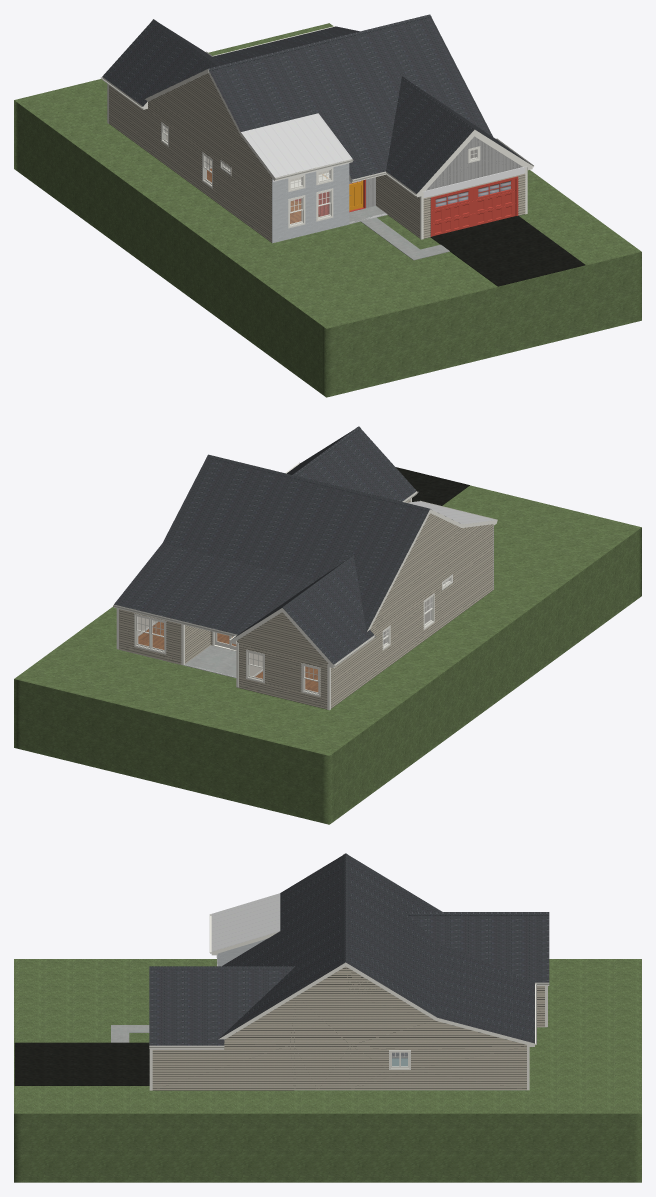
Rendered from house.dae.
The picture shows the model from 3 angles, top to bottom: view 1: azimuth 30°, elevation 25°; view 2: azimuth 150°, elevation 25°; view 3: azimuth 270°, elevation 25°; orthographic projection.
Visible parts, largest first — view 1: geo_132, geo_131, geo_151, geo_167, geo_11, geo_144, geo_164, geo_143, geo_136, geo_61, geo_127, geo_77 (+1 smaller); view 2: geo_132, geo_131, geo_151, geo_11, geo_127, geo_167, geo_61, geo_71, geo_144; view 3: geo_132, geo_131, geo_151, geo_167, geo_11, geo_144, geo_61.
Part boxes in pixels (box(x1,y1,x2,y2)): geo_132: box(14, 23, 641, 397); geo_131: box(102, 14, 530, 193); geo_151: box(109, 73, 525, 242); geo_167: box(430, 215, 585, 286); geo_11: box(100, 26, 533, 239); geo_144: box(241, 113, 352, 177); geo_164: box(294, 176, 518, 236); geo_143: box(272, 163, 349, 243); geo_136: box(366, 136, 522, 207); geo_61: box(349, 206, 449, 260); geo_127: box(163, 126, 476, 223); geo_77: box(272, 163, 526, 197); geo_132: box(14, 485, 641, 824); geo_131: box(114, 426, 452, 664); geo_151: box(119, 499, 493, 709); geo_11: box(113, 462, 497, 710); geo_127: box(137, 578, 450, 691); geo_167: box(396, 467, 469, 505); geo_61: box(184, 645, 236, 677); geo_71: box(138, 622, 318, 691); geo_144: box(406, 501, 496, 524); geo_132: box(14, 959, 641, 1182); geo_131: box(149, 853, 549, 1045); geo_151: box(152, 966, 544, 1090); geo_167: box(14, 1042, 149, 1085); geo_11: box(149, 914, 549, 1090); geo_144: box(211, 893, 280, 951); geo_61: box(111, 1025, 149, 1042).
Size of the model in its own units: 720 by 1235 by 429.
Materials: 48 (25 with a texture image).
